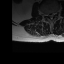CCS_normal: (50, 12, 52, 22)
LFS_stenosis: (54, 10, 56, 16)
LLS_stenosis: (52, 11, 54, 18)
RFS_stenosis: (45, 12, 48, 18)
RLS_stenosis: (48, 12, 50, 19)
